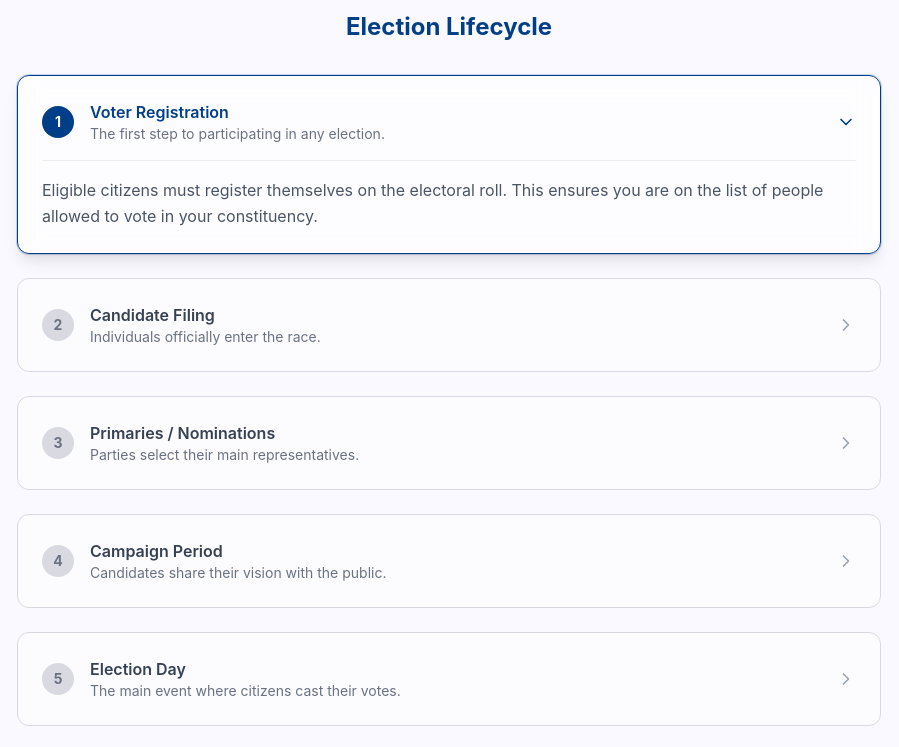
it: Timeline Component › expands a different step when clicked
Click the button "Election Day" at (58, 679), box [17,632,881,726]
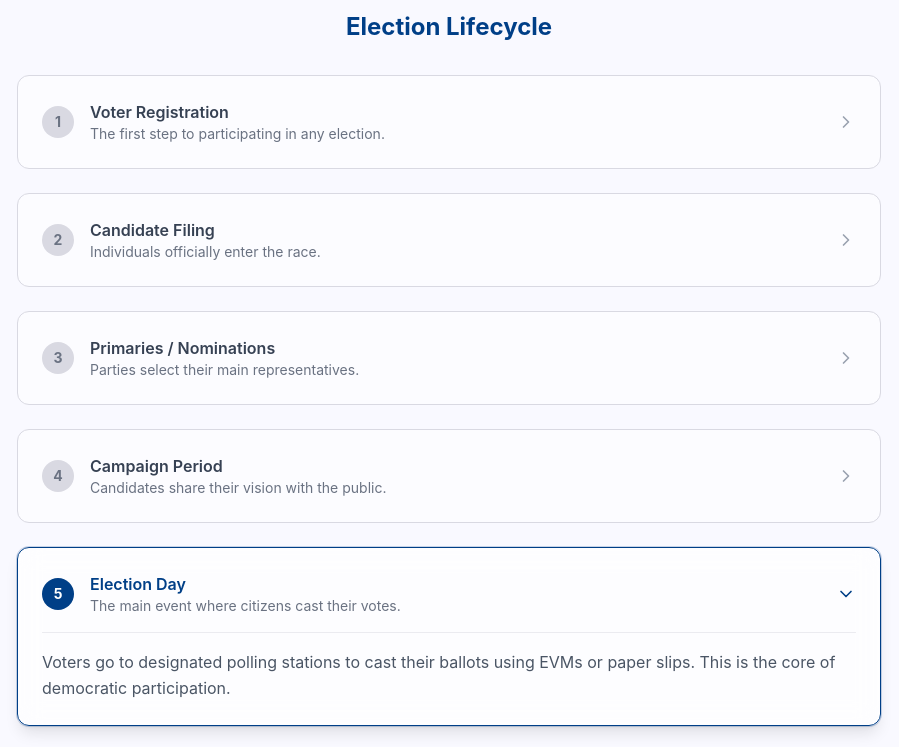
Expected: the text "Voters go to designated polling stations" is shown, [42,652,835,698]
